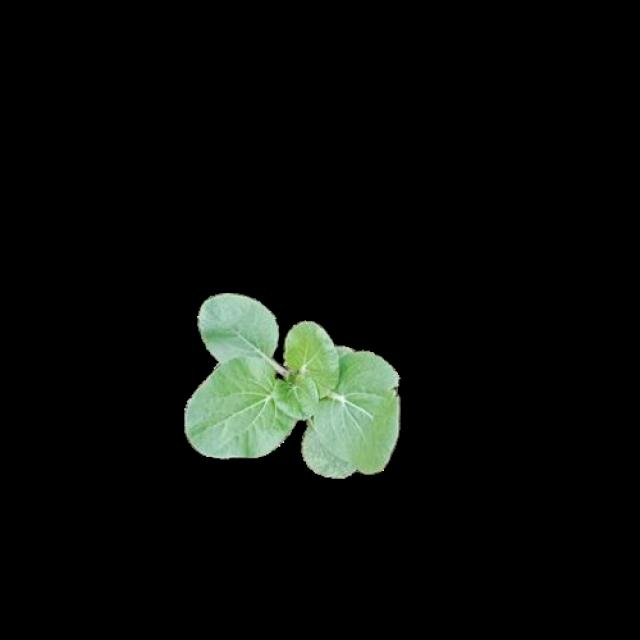healthy: (182, 288, 399, 474)
not-mature: (184, 291, 402, 476)
